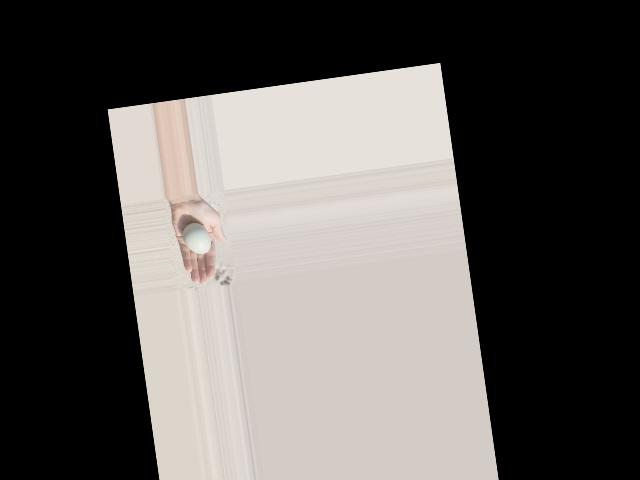egg: (181, 221, 211, 257)
